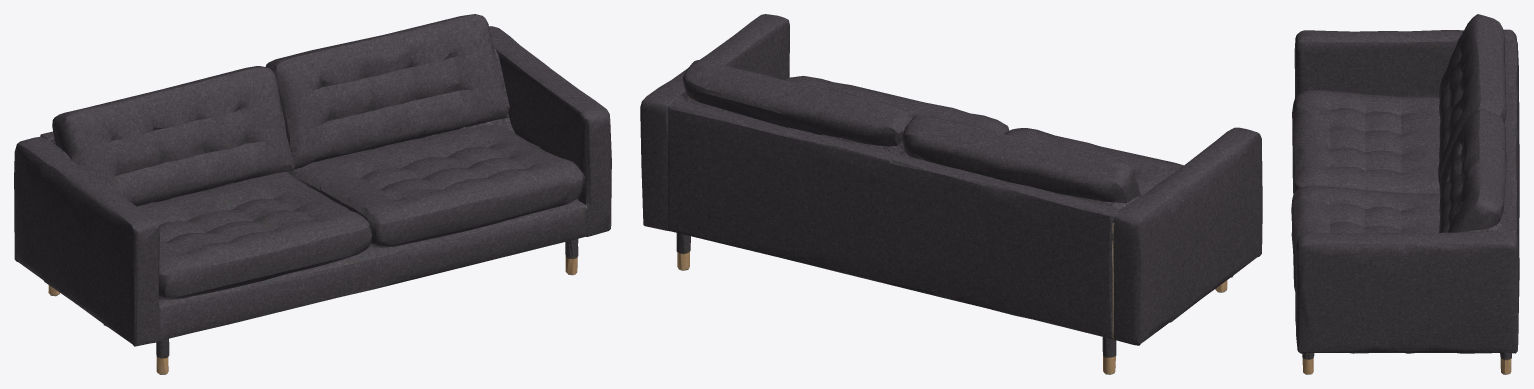
File: morabo_sofa_gunnared_dark_gray_wood.glb
3 renders of one model, left to right at view 1: azimuth 30°, elevation 25°; view 2: azimuth 150°, elevation 25°; view 3: azimuth 270°, elevation 25°, orthographic. The views are drawn at different scales.
Parts seen in each view (by area): view 1: ProcessedMeshNode; view 2: ProcessedMeshNode; view 3: ProcessedMeshNode.
Part boxes in pixels (x1,y1,x2,y2): ProcessedMeshNode: [14, 14, 611, 374]; ProcessedMeshNode: [640, 14, 1262, 374]; ProcessedMeshNode: [1291, 14, 1519, 374].
Bounding box in the file's own units: 2.05 × 0.7762 × 0.9088.
Materials: 1 (1 with a texture image).
